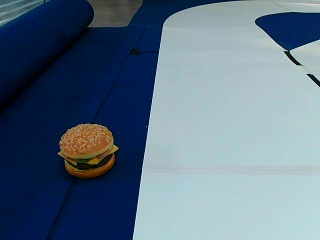burger: (57, 121, 118, 176)
